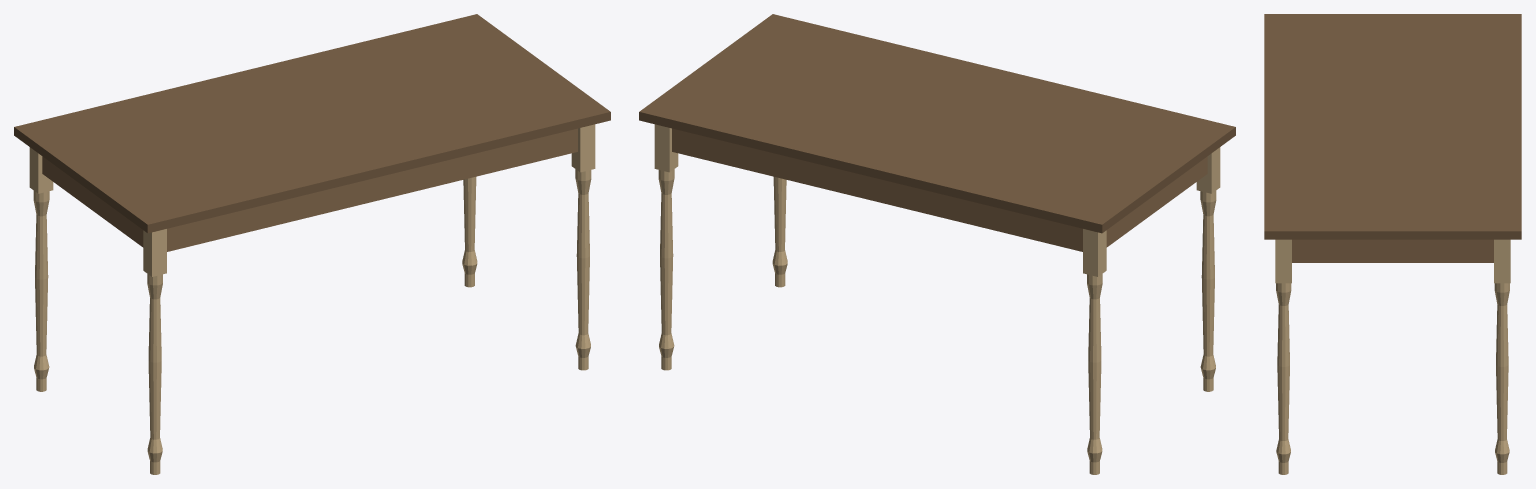
Rendered from BIB-DSK-wide.glb.
3 views of the same model, side by side, from view 1: azimuth 30°, elevation 25°; view 2: azimuth 150°, elevation 25°; view 3: azimuth 270°, elevation 25° (orthographic). The views are drawn at different scales.
Visible parts, largest first — view 1: top:pbr, apron-f:pbr, leg-fl:pbr, leg-fr:pbr, leg-bl:pbr, apron-l:pbr, leg-br:pbr; view 2: top:pbr, apron-b:pbr, leg-bl:pbr, leg-br:pbr, leg-fl:pbr, apron-l:pbr, leg-fr:pbr; view 3: top:pbr, apron-r:pbr, leg-fr:pbr, leg-br:pbr.
Part boxes in pixels (x1,y1,x2,y2): top:pbr: (14,14,610,233); apron-f:pbr: (167,128,577,251); leg-fl:pbr: (143,229,166,474); leg-fr:pbr: (571,124,595,370); leg-bl:pbr: (29,147,53,391); apron-l:pbr: (42,156,143,247); leg-br:pbr: (462,177,477,287); top:pbr: (639,14,1235,233); apron-b:pbr: (672,128,1082,251); leg-bl:pbr: (1083,229,1106,474); leg-br:pbr: (654,124,678,370); leg-fl:pbr: (1196,147,1220,391); apron-l:pbr: (1106,156,1207,247); leg-fr:pbr: (772,177,787,287); top:pbr: (1264,14,1521,239); apron-r:pbr: (1292,239,1493,262); leg-fr:pbr: (1275,239,1291,474); leg-br:pbr: (1494,239,1510,474).
Bounding box in the file's own units: 1.4 × 0.75 × 0.7.
